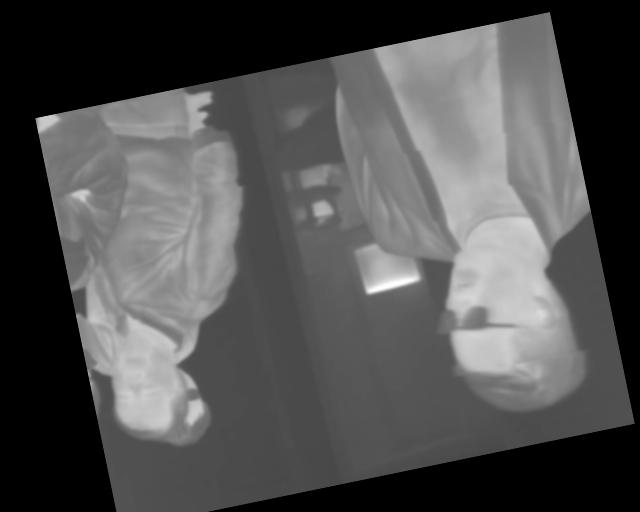face: (427, 229, 598, 428), (99, 328, 195, 449)
